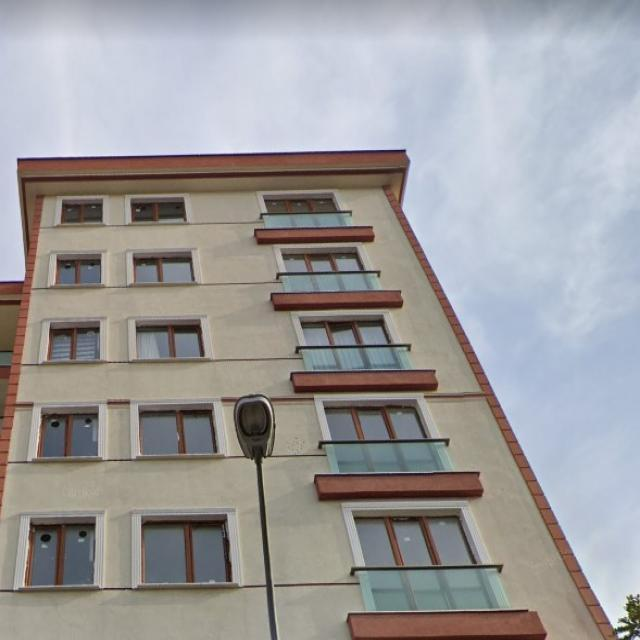Building: (0, 152, 624, 640)
